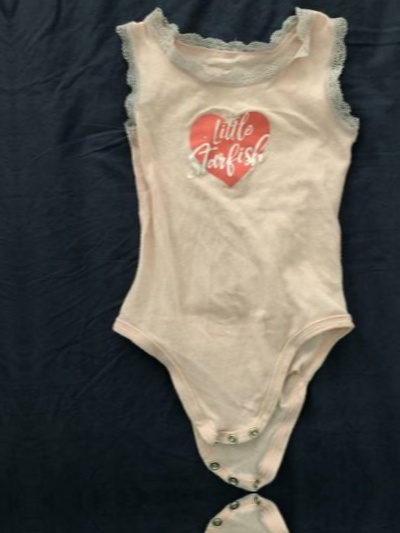Body: (54, 0, 397, 498), (78, 489, 400, 533), (0, 508, 8, 533)
